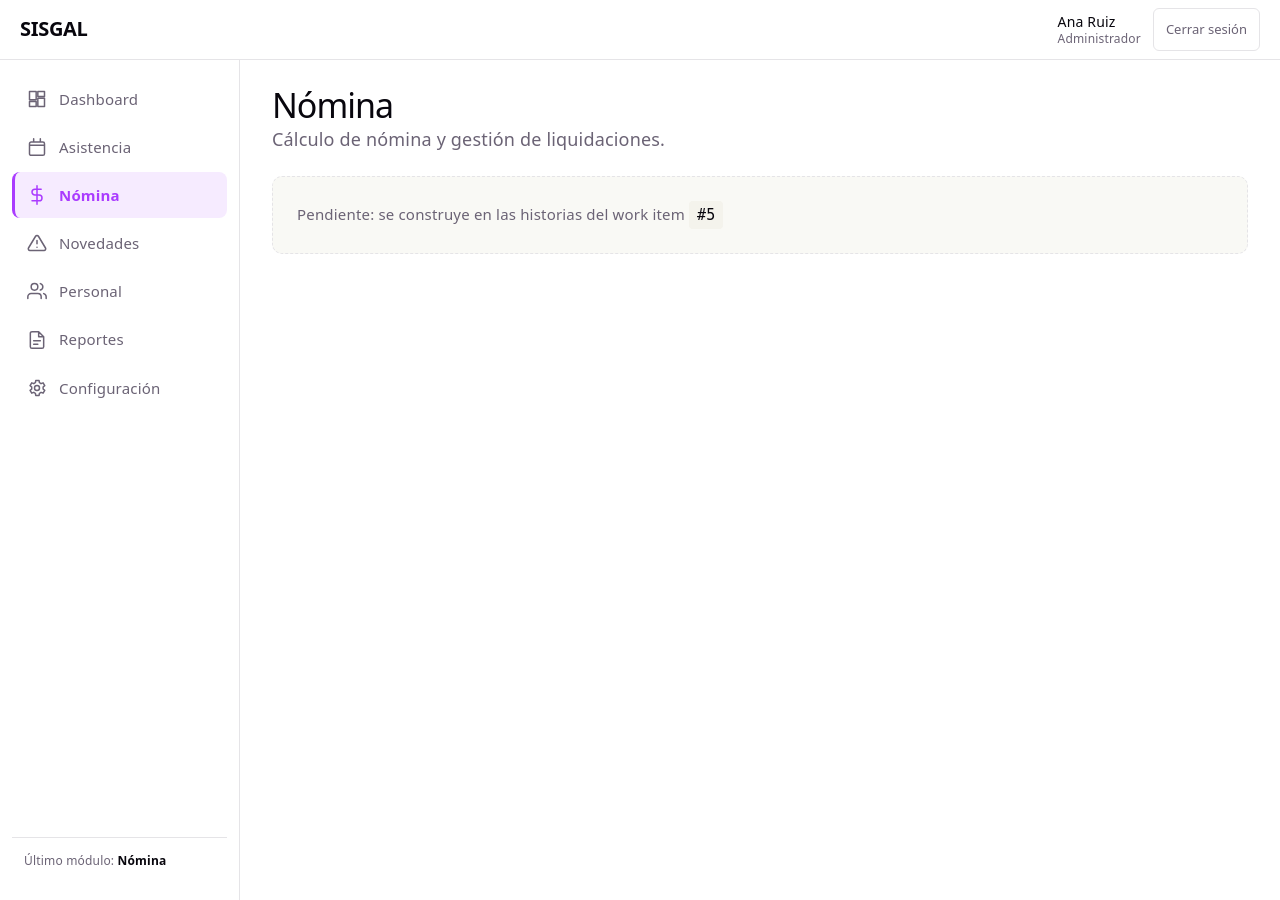
Scenario: Indicación del módulo activo › mueve la marca al navegar
Click the link "Reportes": (75, 340) [27,330,124,350]
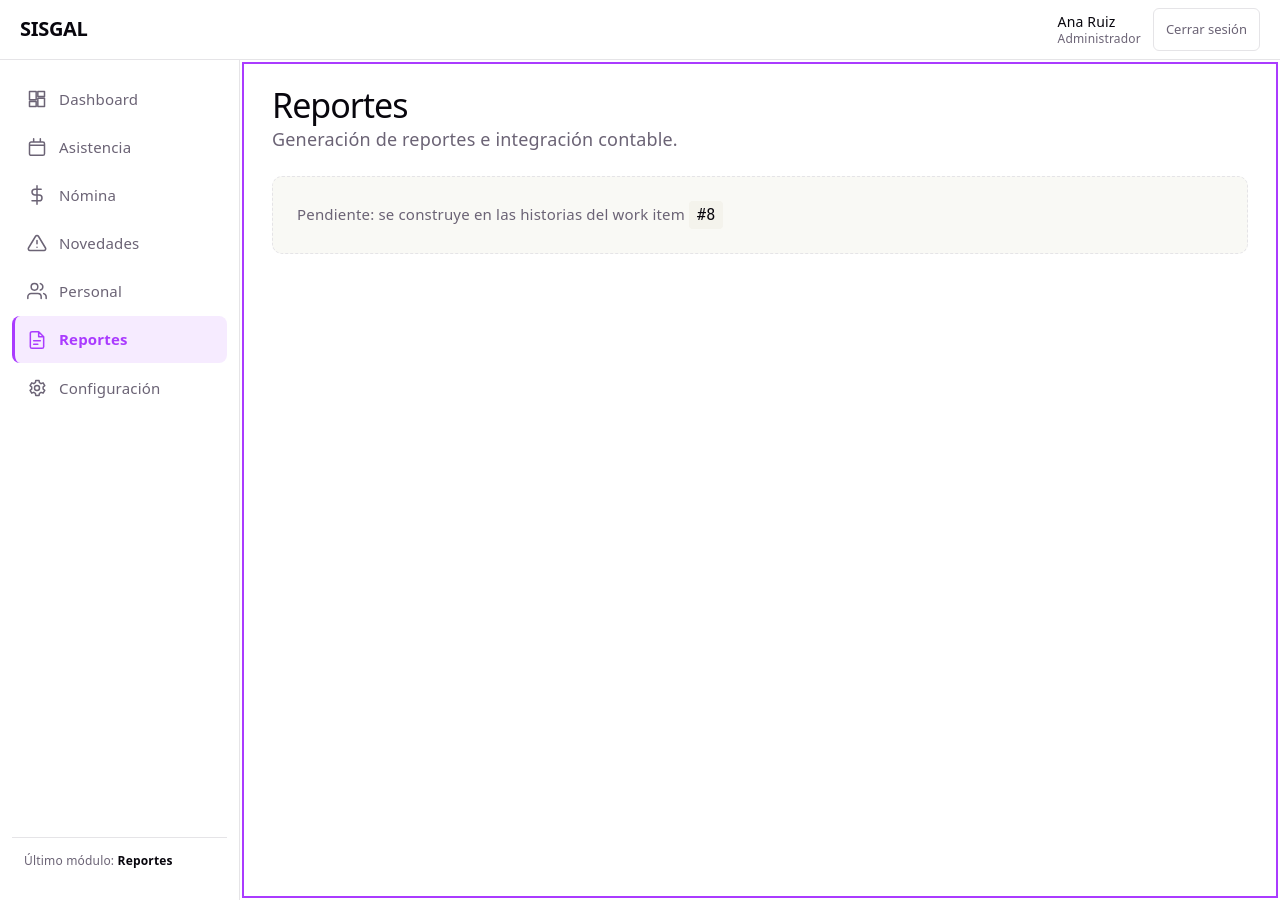
Expected: the link "Reportes" is shown, [12,316,227,363]
Now the heading "Reportes" is shown, box [272,82,408,128]
